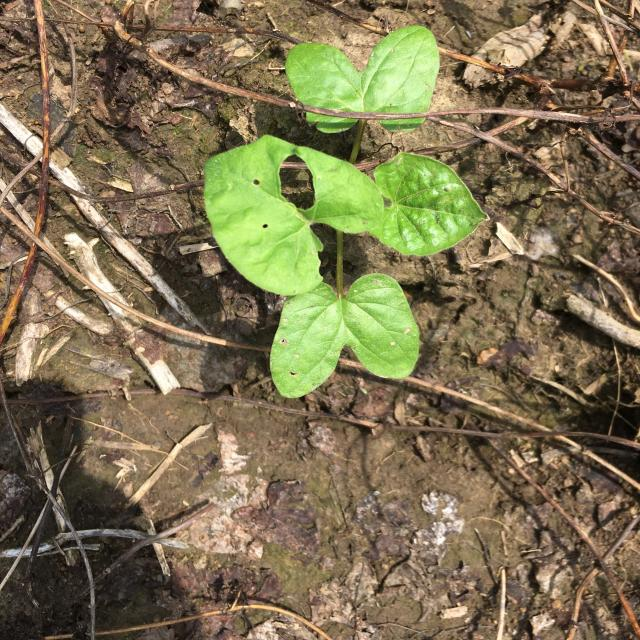MorningGlory: (204, 26, 489, 399)
